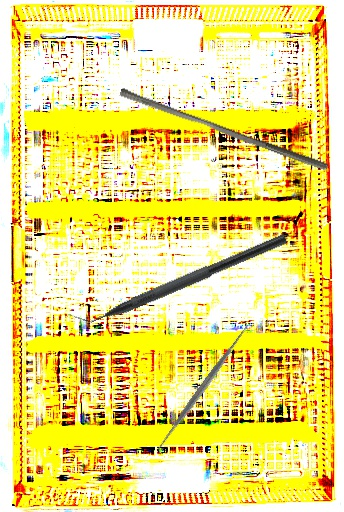Chopper: (65, 218, 289, 338)
Pusher: (116, 87, 332, 172)
Spatula Surgical: (149, 319, 256, 458)
